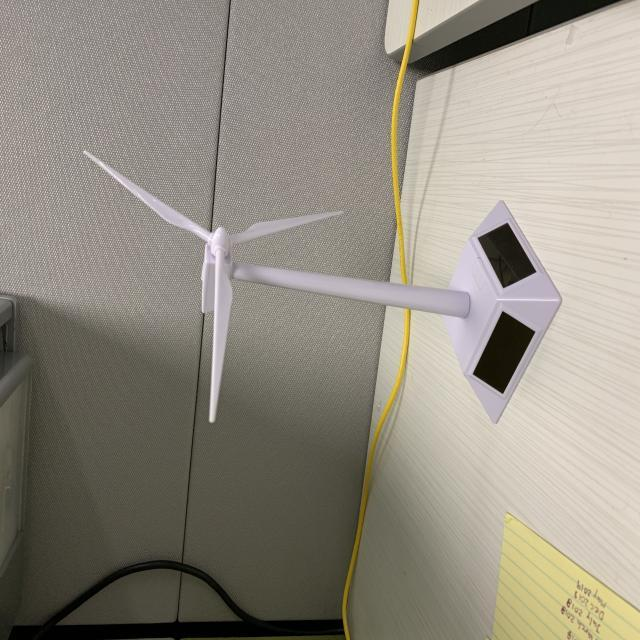solid-blade: (84, 152, 211, 242), (209, 264, 232, 422), (230, 212, 342, 244)
